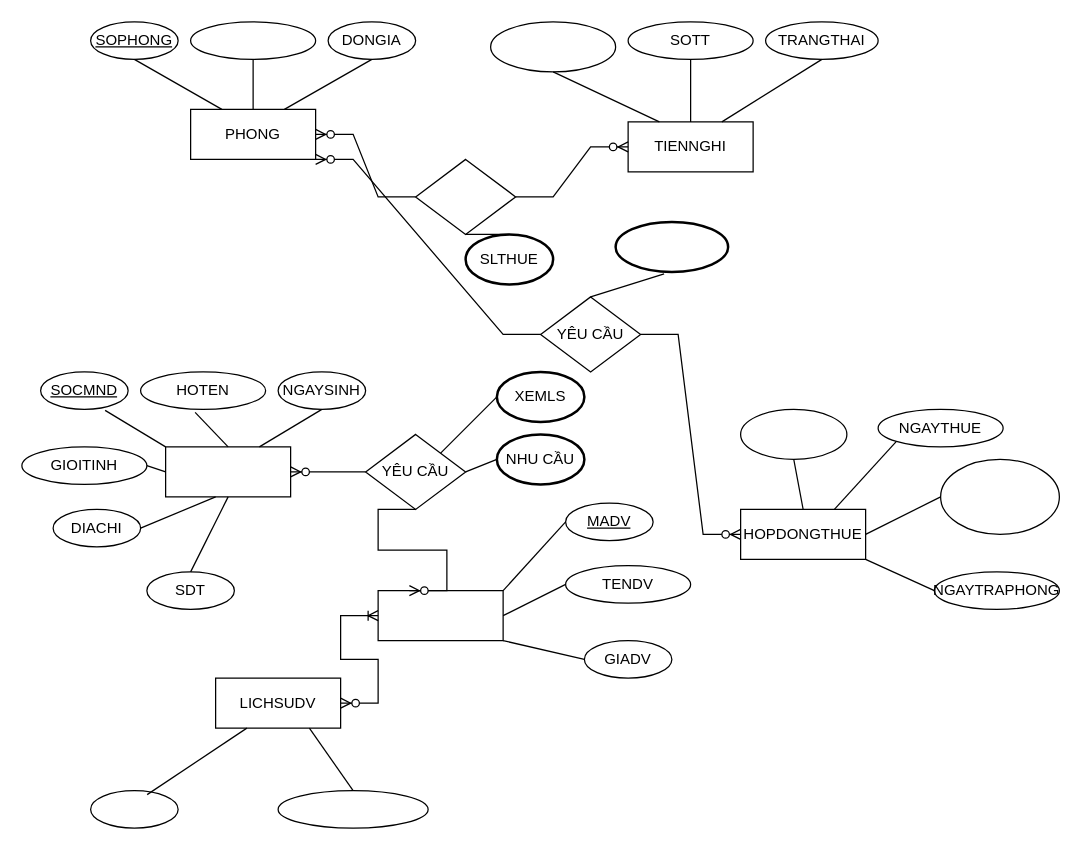
This 1081x850 diagram has some shape labels left out. Here are the shapes that lost their labels. From the top down, the centre of each, then its label:
At point (252, 40): "SONGUOI_O".
At point (552, 46): "LOAITIENNGHI".
At point (465, 196): "THUÊ".
At point (671, 246): "SLHOPDONG".
At point (793, 433): "SOHOPDONG".
At point (227, 471): "KHACHHANG".
At point (999, 496): "NGAYDUKIEN KETTHUC".
At point (440, 615): "DICHVU".
At point (133, 808): "NGAYSD".
At point (352, 808): "SOTIENSUDUNG".
